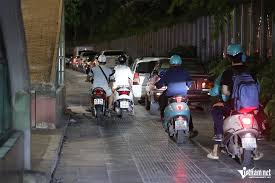Bien-so: (240, 138, 257, 149), (175, 121, 190, 130), (120, 102, 129, 108), (94, 98, 102, 104)
